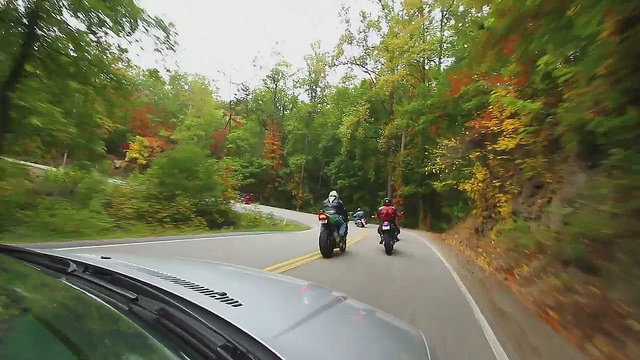non-vehicle: (319, 211, 347, 257), (382, 220, 397, 256), (355, 218, 364, 226)
